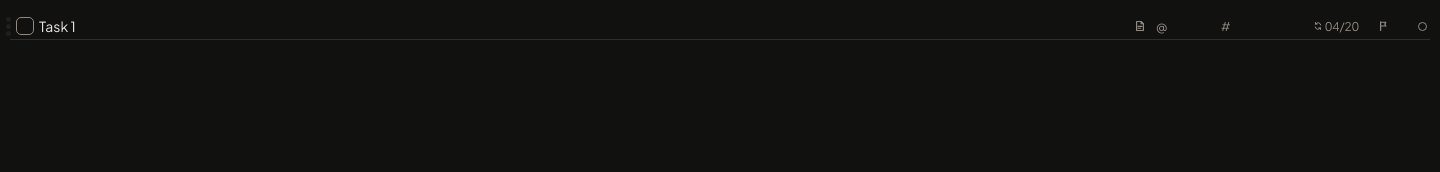
Test: TaskRow › due column › the tooltip gives the full date, the distance and the repeat rule
Step 1. Hover over the button named "Due Mon 20 Apr" → [1336, 26], box [1313,14,1359,38]
Wait 400 ms
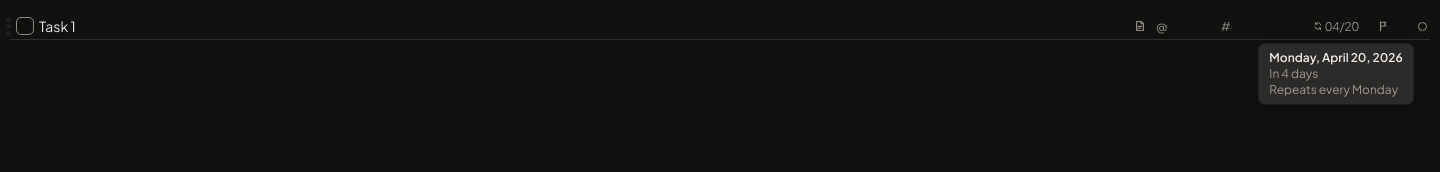
Result: the tooltip reads "Monday, April 20, 2026 In 4 days Repeats every Monday" at [1259,44,1413,104]
